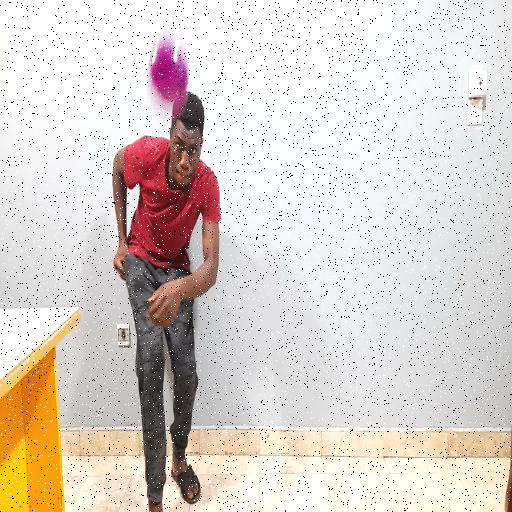plastic-ball: (148, 32, 187, 109)
